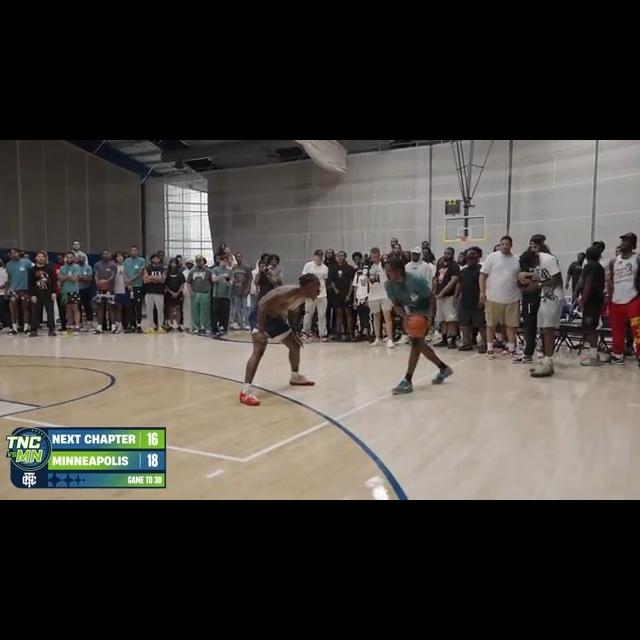basketball: (405, 312, 427, 337)
